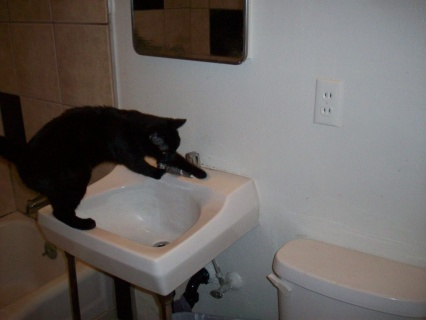Cat: (0, 102, 206, 231)
